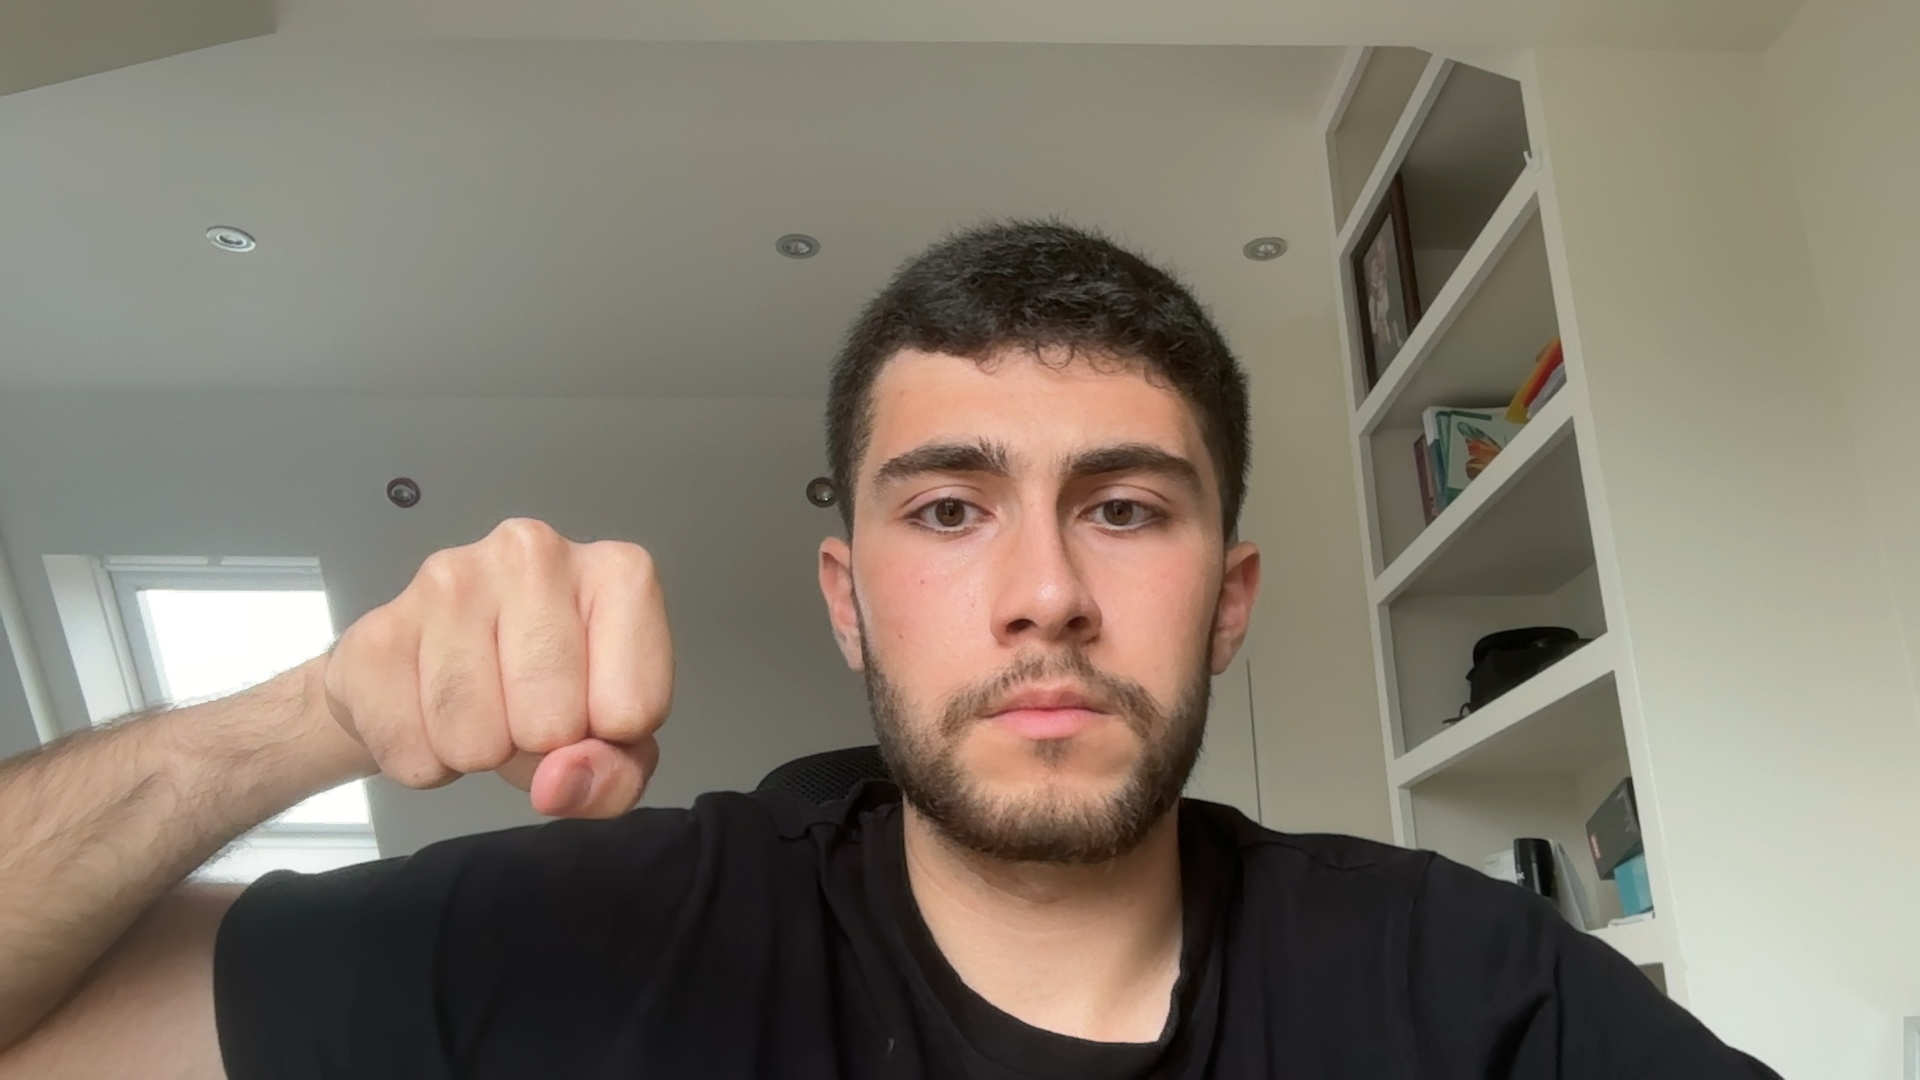yes: (305, 493, 761, 856)
